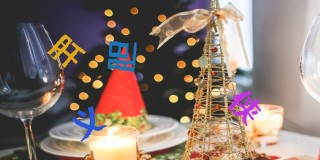义: (71, 106, 106, 141)
侠: (227, 90, 261, 126)
肝: (47, 33, 86, 68)
胆: (107, 39, 137, 71)
